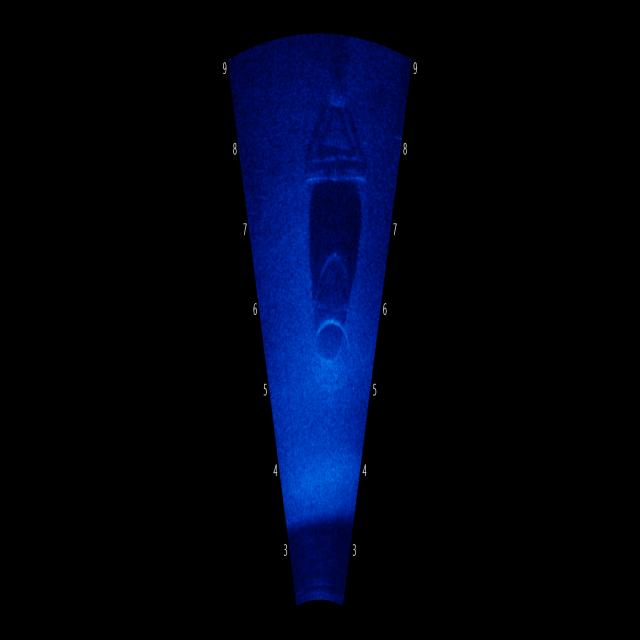circle: (300, 283, 360, 409)
triangle: (287, 52, 379, 205)
